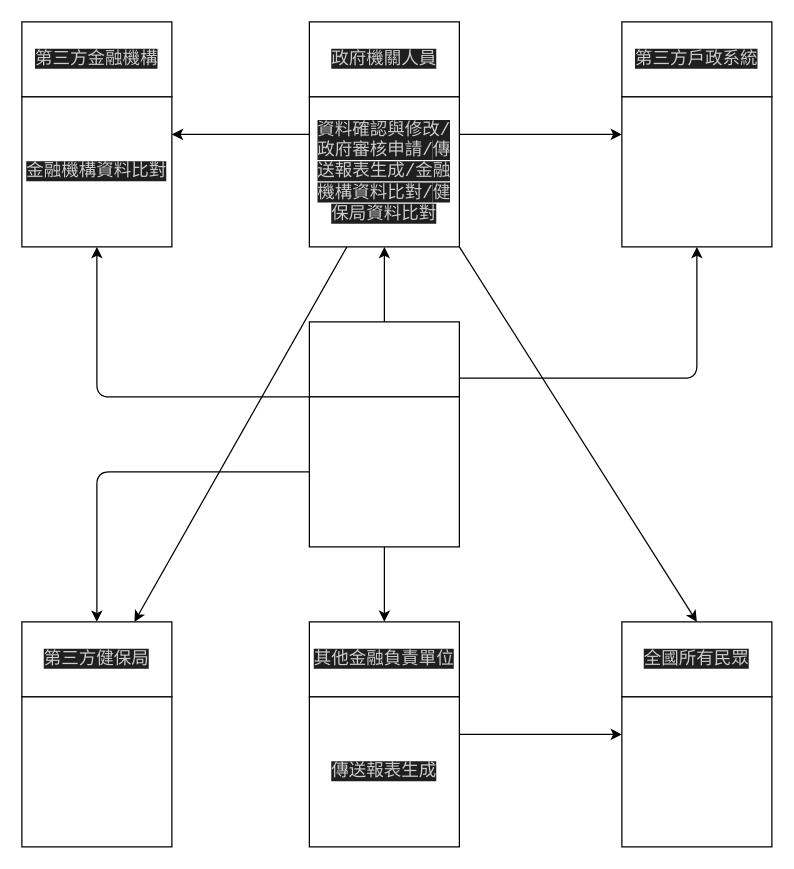
The diagram is 794 pixels wide and 869 high, and some of its shapes have lost their labels. The shapes that lost their labels are listed below. From the top down, each one's centre as x and y in pixels, then its label:
point (696, 171): 資料轉換成JSON格式
point (383, 359): 申請人
point (383, 471): 申請人填寫資料/ 資料確認與修改/ 政府審核申請/ 資料轉換成JSON格式
point (96, 771): 健保局資料比對
point (696, 771): 申請人填寫資料
